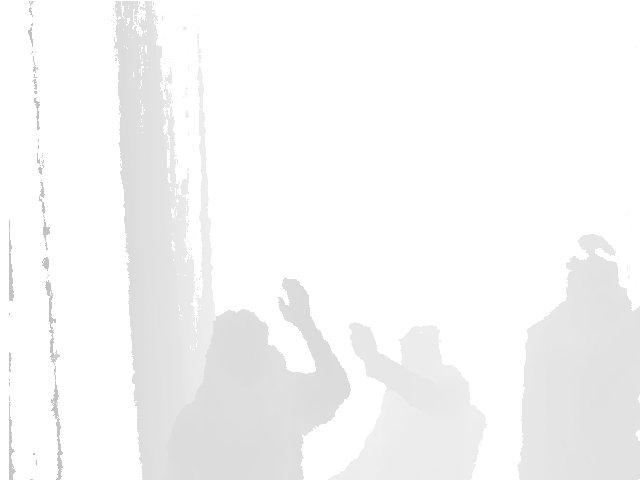hand: (276, 279, 311, 321), (348, 324, 377, 369)
head: (561, 234, 629, 310), (208, 309, 271, 383), (398, 325, 440, 366)
person: (159, 279, 350, 480), (519, 232, 640, 480), (326, 324, 473, 480)
